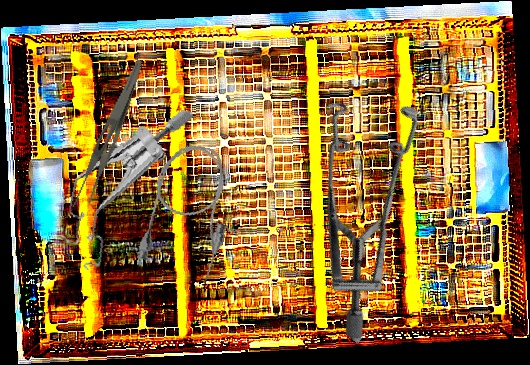Cannula: (134, 138, 244, 285)
Dressing Forceps: (69, 53, 145, 215)
Speculum: (222, 65, 494, 344), (51, 89, 197, 286)
